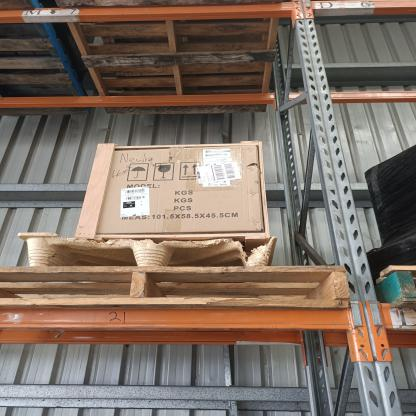label: (202, 148, 231, 187), (199, 161, 242, 185), (120, 186, 150, 217)
package: (74, 142, 269, 237)
